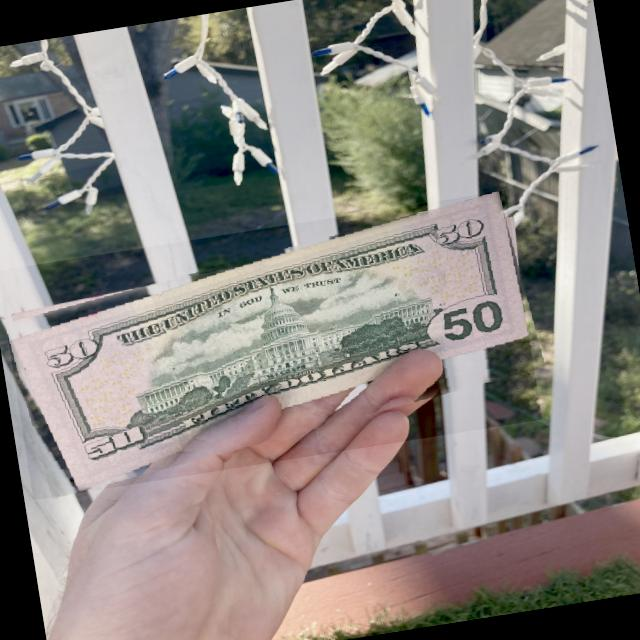fifty: (10, 175, 547, 499)
